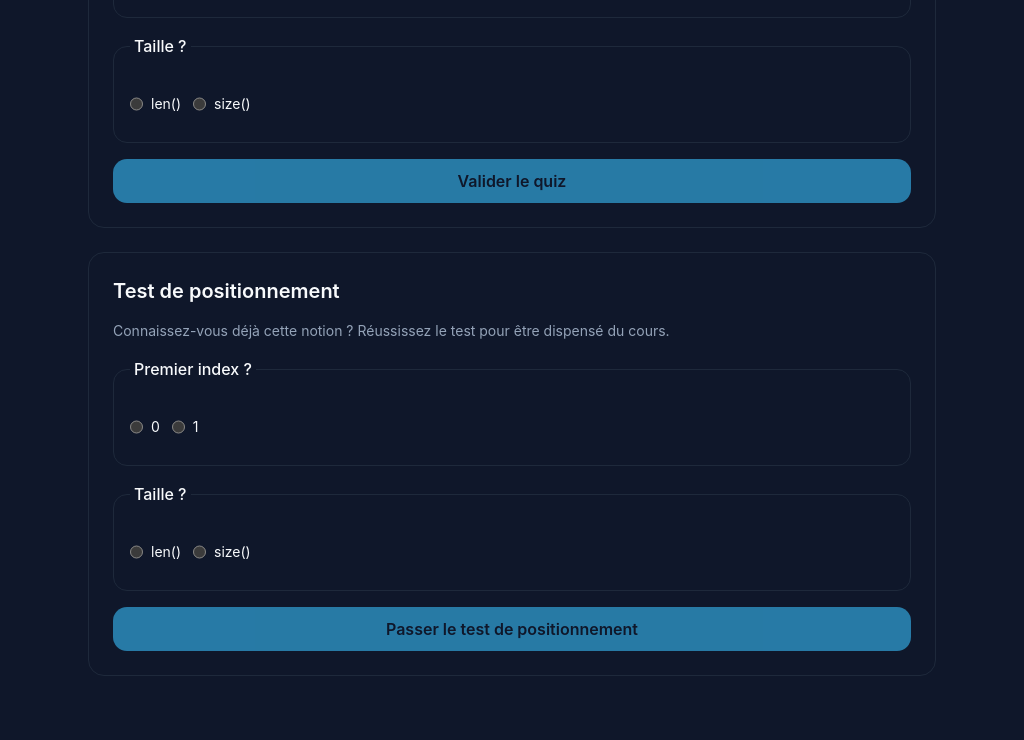
it: LessonPage (US6 - T137) › dispense du cours après un positionnement réussi
(page scrolled)
Expected: the button "Passer le test de positionnement" is shown, [113,607,911,651]
Click the 2nd radio button labelled "0" at {"x": 136, "y": 427}, box [130,405,143,449]
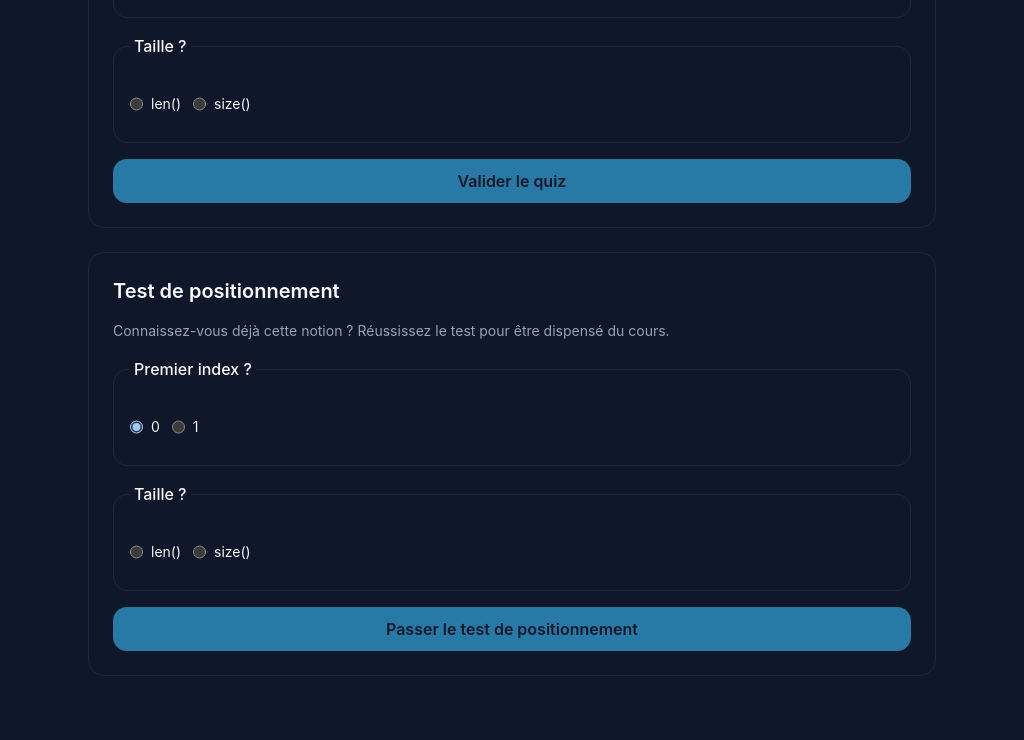
Click the 2nd radio button labelled "len()" at {"x": 136, "y": 552}, box [130,530,143,574]
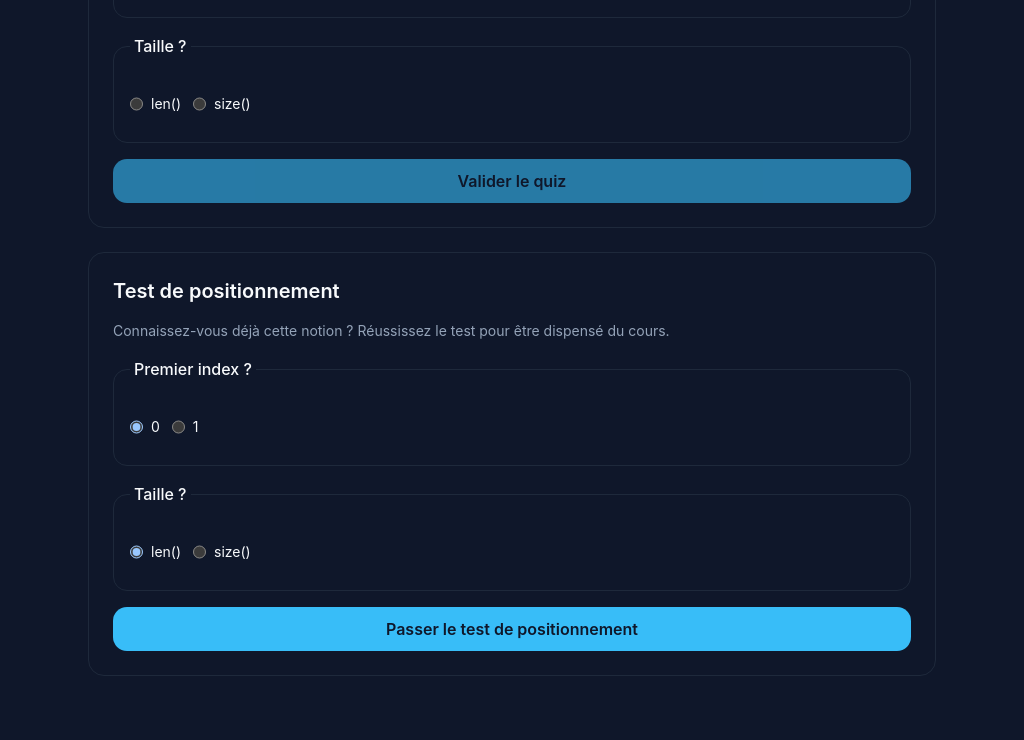
Click the button "Passer le test de positionnement" at {"x": 512, "y": 629}, box [113,607,911,651]
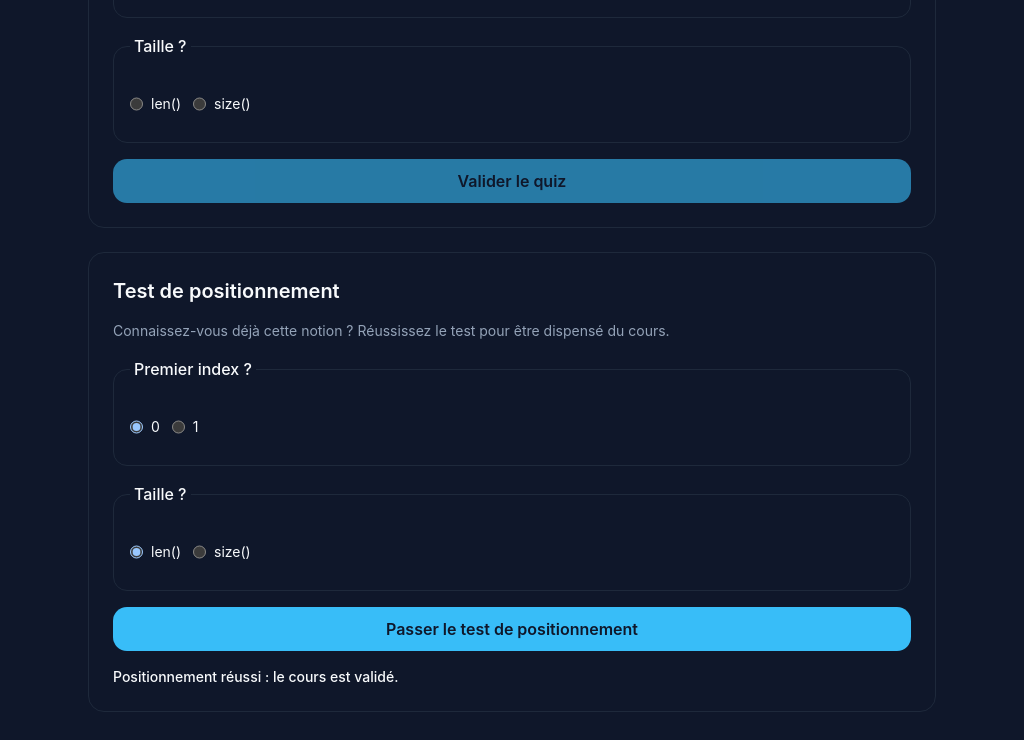
Result: the text "Positionnement réussi : le cours est validé." is shown at [113,668,398,685]
